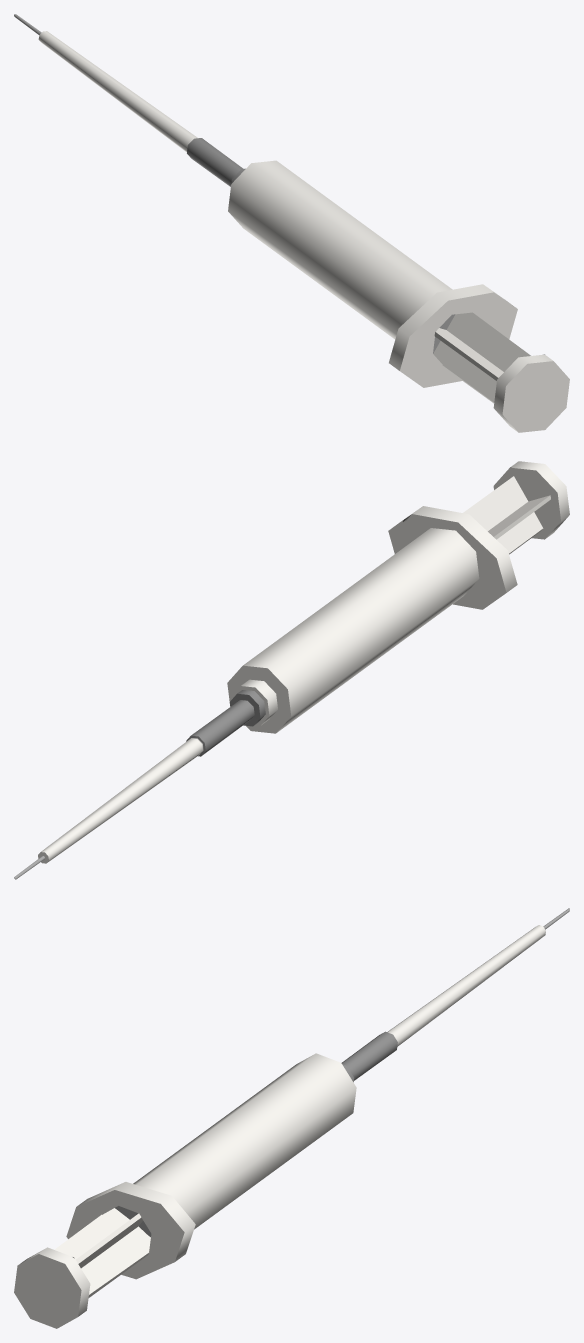
The model's file is Obj_Seringue_Cathéter.fbx.
3 renders of one model, top to bottom at view 1: azimuth 30°, elevation 25°; view 2: azimuth 150°, elevation 25°; view 3: azimuth 330°, elevation 25°, orthographic.
Parts seen in each view (by area): view 1: Obj_Seringue_Corps, Obj_Seringue_Piston, Obj_Catheter; view 2: Obj_Seringue_Corps, Obj_Seringue_Piston, Obj_Catheter; view 3: Obj_Seringue_Corps, Obj_Seringue_Piston, Obj_Catheter.
Part boxes in pixels (left/top/right/bottom): Obj_Seringue_Corps: left=14, top=14, right=517, bottom=387; Obj_Seringue_Piston: left=433, top=312, right=569, bottom=432; Obj_Catheter: left=38, top=31, right=245, bottom=186; Obj_Seringue_Corps: left=14, top=506, right=517, bottom=879; Obj_Seringue_Piston: left=463, top=461, right=569, bottom=554; Obj_Catheter: left=38, top=690, right=265, bottom=863; Obj_Seringue_Corps: left=66, top=908, right=569, bottom=1279; Obj_Seringue_Piston: left=14, top=1208, right=150, bottom=1328; Obj_Catheter: left=341, top=925, right=545, bottom=1082.
Bounding box in the file's own units: 1.37 × 0.9324 × 10.46.
Materials: 5 (3 with a texture image).
